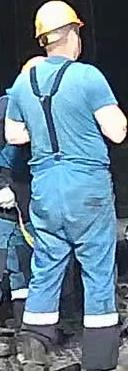helmet: (33, 0, 81, 38)
